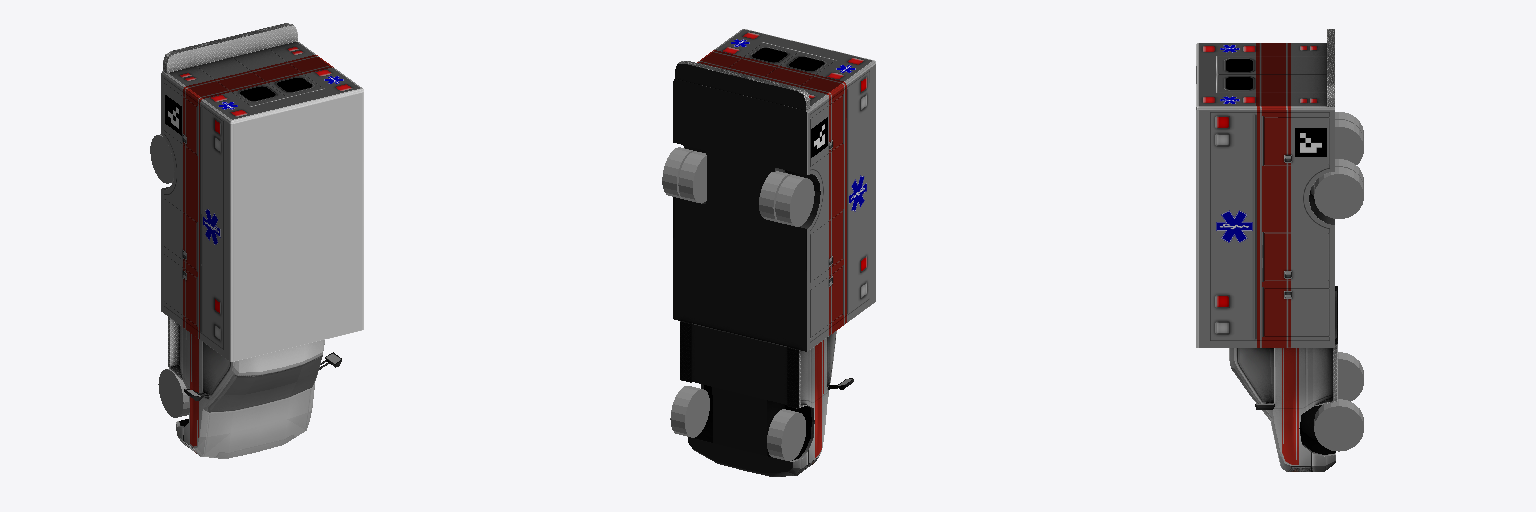
3 renders of one model, left to right at view 1: azimuth 30°, elevation 25°; view 2: azimuth 150°, elevation 25°; view 3: azimuth 270°, elevation 25°, orthographic.
Visible parts, largest first — view 1: Ambulance, Wheel_Front_Right, Wheels_Rear; view 2: Ambulance, Wheels_Rear, Wheel_Front_Left, Wheel_Front_Right; view 3: Ambulance, Wheels_Rear, Wheel_Front_Left, Wheel_Front_Right.
Boxes of the visible parts, x1,y1,x2,y2 form: Ambulance: [161, 23, 363, 458]; Wheel_Front_Right: [158, 368, 189, 417]; Wheels_Rear: [150, 134, 174, 183]; Ambulance: [673, 29, 875, 476]; Wheels_Rear: [662, 147, 814, 226]; Wheel_Front_Left: [670, 386, 709, 437]; Wheel_Front_Right: [767, 409, 805, 460]; Ambulance: [1196, 29, 1337, 471]; Wheels_Rear: [1314, 112, 1363, 218]; Wheel_Front_Left: [1314, 399, 1363, 451]; Wheel_Front_Right: [1338, 352, 1363, 401].
Bounding box in the file's own units: 117 × 297 × 114.
2 materials, 1 textured.